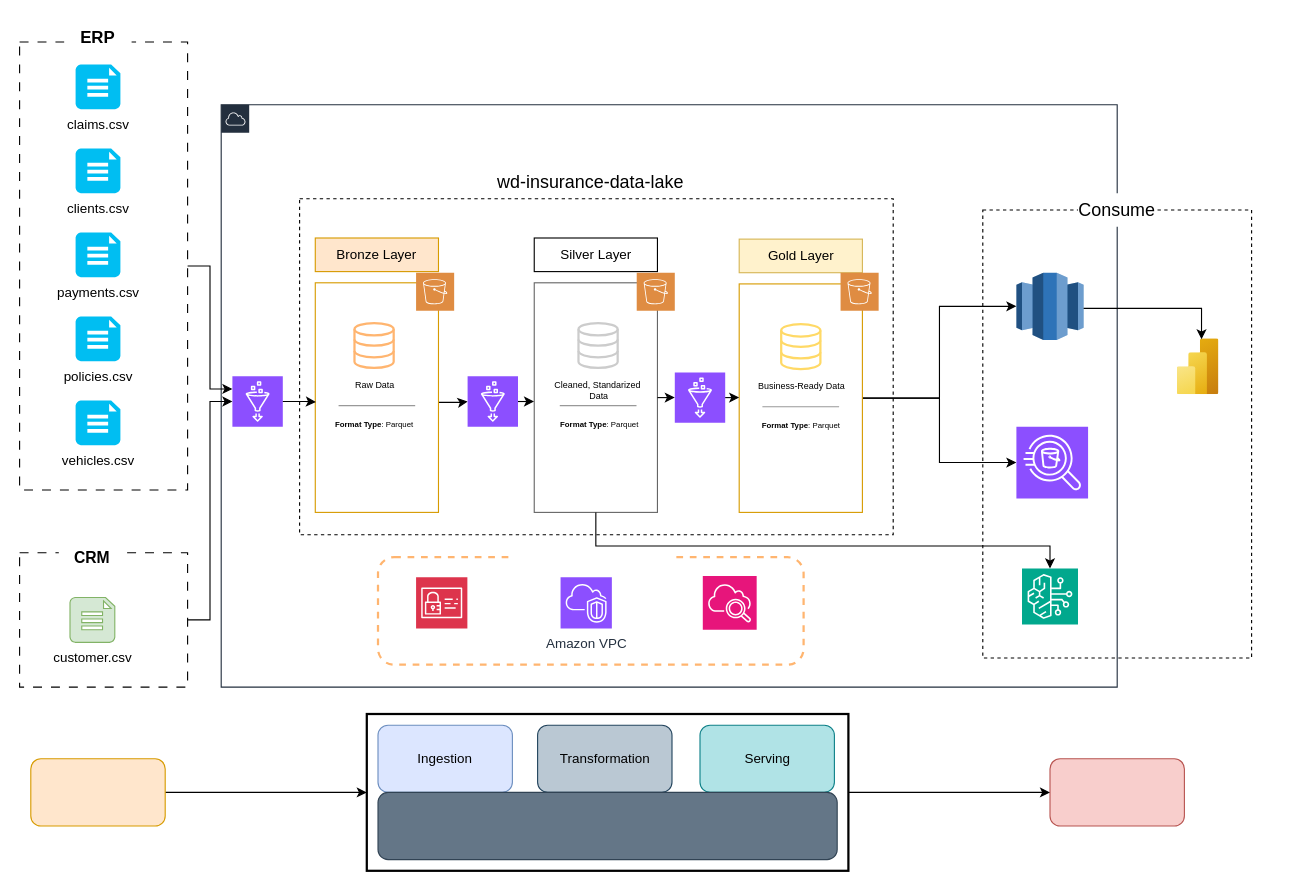
This 1315x890 diagram has some shape labels left out. The box of each missing label's shape, as (x1, y1, x2, y2) in pixels:
Amazon CloudWatch: (702, 575, 757, 630)
Analytics: (1049, 758, 1184, 826)
Athena: (1015, 426, 1088, 498)
AWS Cloud: (220, 104, 1117, 687)
BedRock: (1021, 567, 1078, 624)
dw-insurance: (1015, 272, 1084, 340)
Generation: (30, 758, 165, 826)
IAM: (415, 576, 467, 629)
Security & Monitory: (509, 542, 671, 575)
Storage: (377, 791, 837, 860)
